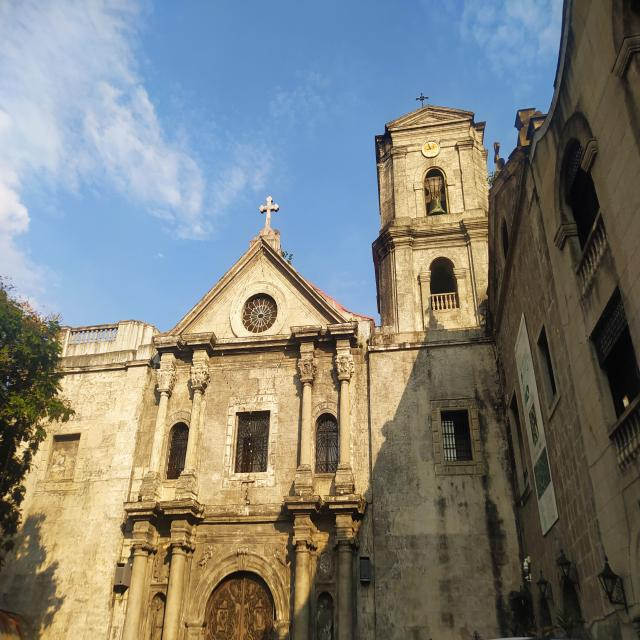San Agustin Church: (0, 88, 533, 638)
